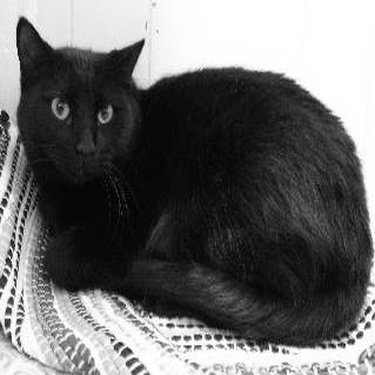cat: (1, 15, 374, 339)
